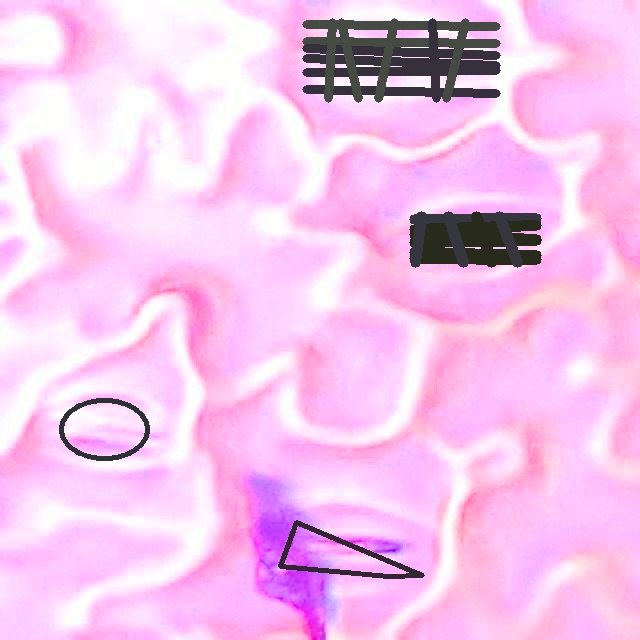open: (302, 18, 500, 102), (278, 521, 423, 577), (409, 212, 540, 267), (58, 397, 150, 461)
